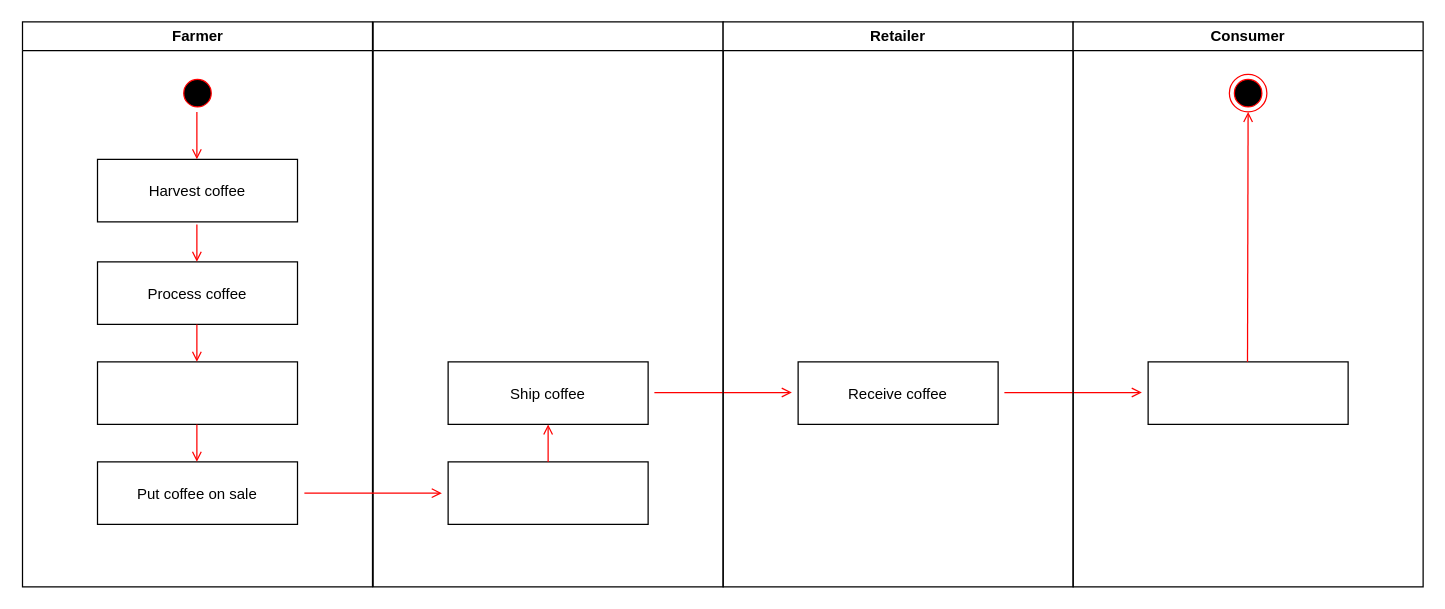
Some shapes in this 1445 by 609 pixel diagram are drawn without their labels. The box of each missing label's shape, as (x1, y1, x2, y2) in pixels:
Buy coffee: (447, 461, 648, 524)
Distributor: (372, 21, 723, 587)
Pack coffee: (96, 361, 298, 424)
Purchase coffee: (1147, 361, 1348, 424)
